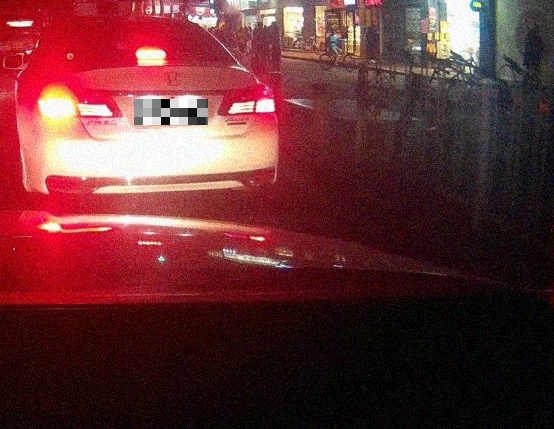L_light: (37, 90, 123, 119)
R_light: (216, 81, 276, 116)
T_light: (134, 48, 166, 60)
night-left: (17, 14, 280, 212)
plate_1: (134, 99, 208, 125)
